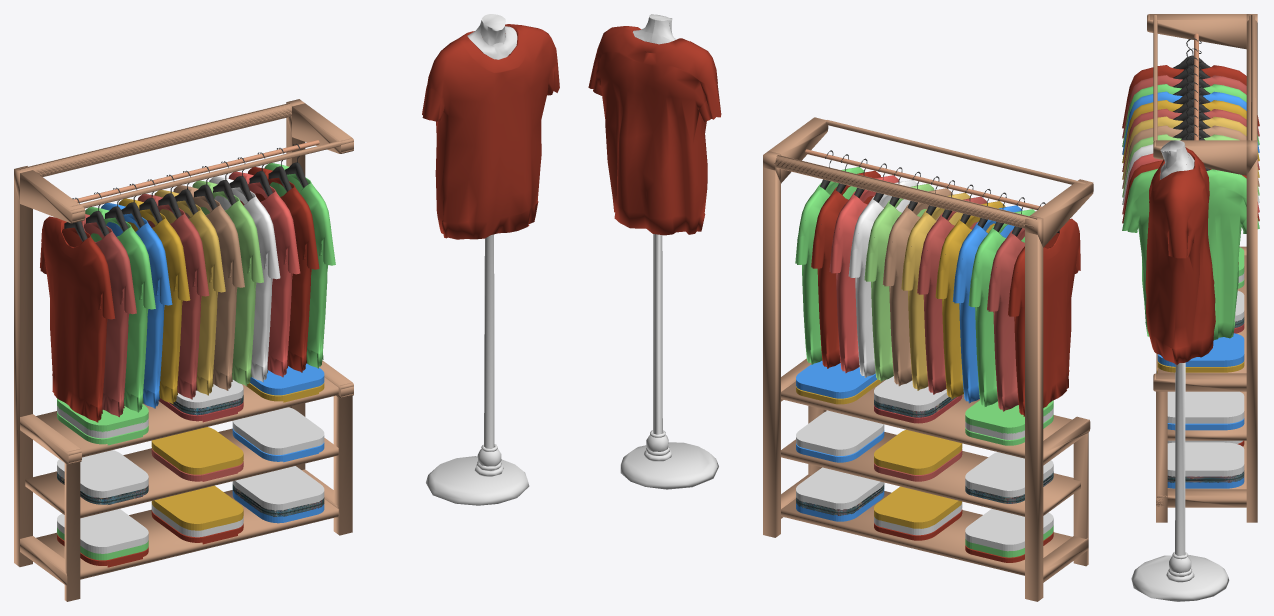
Rendered from Casual Tshirt_Rack & Mannequin_V1.fbx.
3 views of the same model, side by side, from view 1: azimuth 30°, elevation 25°; view 2: azimuth 150°, elevation 25°; view 3: azimuth 270°, elevation 25° (orthographic). The views are drawn at different scales.
Visible parts, largest first — view 1: Pattern2D_5081.018, Tshirt.021, Tshirt.029, Feet.001, Tshirt.028, Tshirt.017, Tshirt.020, Tshirt.027, Tshirt.019, Tshirt.016, Tshirt.024, Tshirt.025 (+17 smaller); view 2: Pattern2D_5081.018, Tshirt.021, Tshirt.029, Feet.001, Tshirt.028, Tshirt.017, Tshirt.020, Tshirt.016, Tshirt.019, Tshirt.024, Tshirt.027, Tshirt.025 (+15 smaller); view 3: Pattern2D_5081.018, Tshirt.021, Tshirt.022, Feet.001, Shirt_folded.129, Shirt_folded.105, Shirt_folded.104, Tshirt.029, Tshirt.023, Tshirt.028, Tshirt.025, Tshirt.020 (+24 smaller).
Boxes of the visible parts, box(x1,y1,x2,y2) form: Pattern2D_5081.018: box(14, 99, 353, 601); Tshirt.021: box(422, 24, 559, 239); Tshirt.029: box(40, 216, 115, 422); Feet.001: box(426, 234, 529, 505); Tshirt.028: box(81, 214, 136, 417); Tshirt.017: box(228, 171, 300, 377); Tshirt.020: box(173, 185, 244, 390); Tshirt.027: box(85, 207, 155, 412); Tshirt.019: box(192, 180, 263, 385); Tshirt.016: box(247, 167, 319, 372); Tshirt.024: box(137, 194, 209, 399); Tshirt.025: box(118, 198, 190, 403); Pattern2D_5081.018: box(763, 117, 1093, 601); Tshirt.021: box(588, 26, 721, 235); Tshirt.029: box(1008, 218, 1080, 416); Feet.001: box(620, 234, 718, 489); Tshirt.028: box(987, 228, 1024, 411); Tshirt.017: box(829, 175, 899, 373); Tshirt.020: box(882, 188, 952, 386); Tshirt.016: box(811, 170, 880, 368); Tshirt.019: box(864, 183, 934, 381); Tshirt.024: box(917, 196, 986, 394); Tshirt.027: box(968, 209, 1035, 406); Tshirt.025: box(935, 201, 1005, 398); Pattern2D_5081.018: box(1147, 14, 1257, 522); Tshirt.021: box(1145, 147, 1215, 364); Tshirt.022: box(1122, 168, 1259, 339); Feet.001: box(1131, 362, 1229, 601); Shirt_folded.129: box(1167, 442, 1244, 476); Shirt_folded.105: box(1167, 391, 1244, 423); Shirt_folded.104: box(1157, 333, 1244, 366); Tshirt.029: box(1122, 65, 1259, 128); Tshirt.023: box(1122, 116, 1259, 179); Tshirt.028: box(1122, 75, 1259, 138); Tshirt.025: box(1122, 100, 1259, 163); Tshirt.020: box(1122, 125, 1259, 188).
Size of the model in its own units: 408 by 364 by 101.
